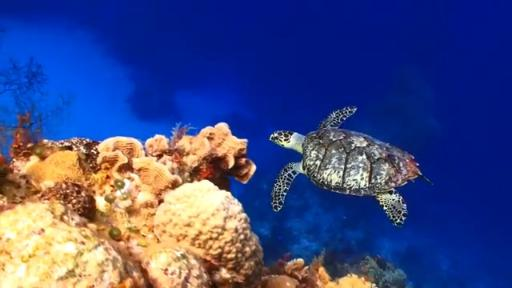Fish: (270, 107, 430, 226)
